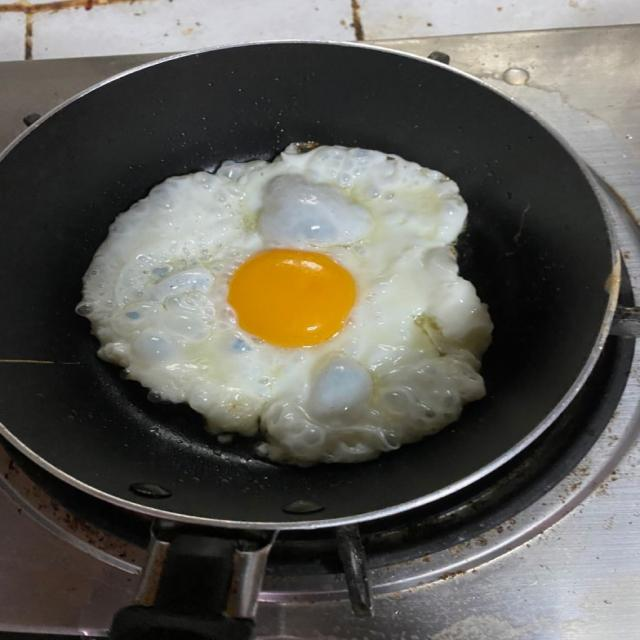fryed egg: (79, 147, 492, 464)
